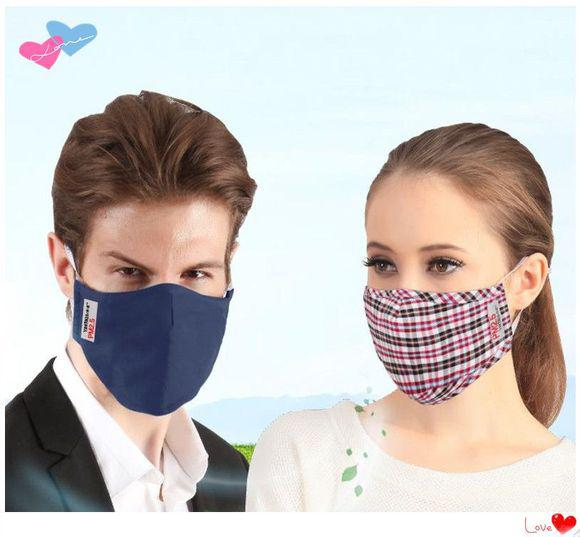OK: (69, 234, 236, 406), (363, 237, 517, 384)
